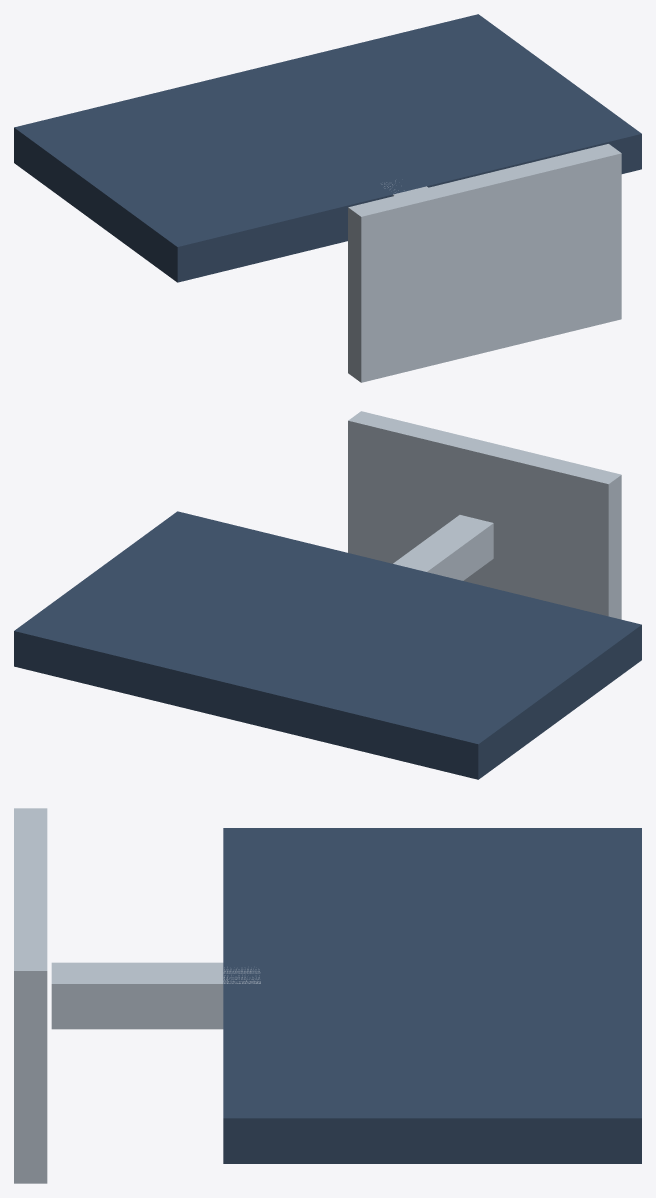
File: computer.glb
3 views of the same model, one above another, from view 1: azimuth 30°, elevation 25°; view 2: azimuth 150°, elevation 25°; view 3: azimuth 270°, elevation 25° (orthographic). The views are drawn at different scales.
Visible parts, largest first — view 1: screen, base; view 2: screen, base, stand; view 3: screen, base, stand.
Part boxes in pixels (x1,y1,x2,y2): screen: (14, 14, 641, 282); base: (348, 144, 621, 382); screen: (14, 511, 641, 779); base: (348, 411, 621, 619); stand: (393, 515, 493, 580); screen: (223, 828, 641, 1163); base: (14, 808, 47, 1183); stand: (51, 962, 260, 1029).
Size of the model in its own units: 0.82 by 0.28 by 0.75.
